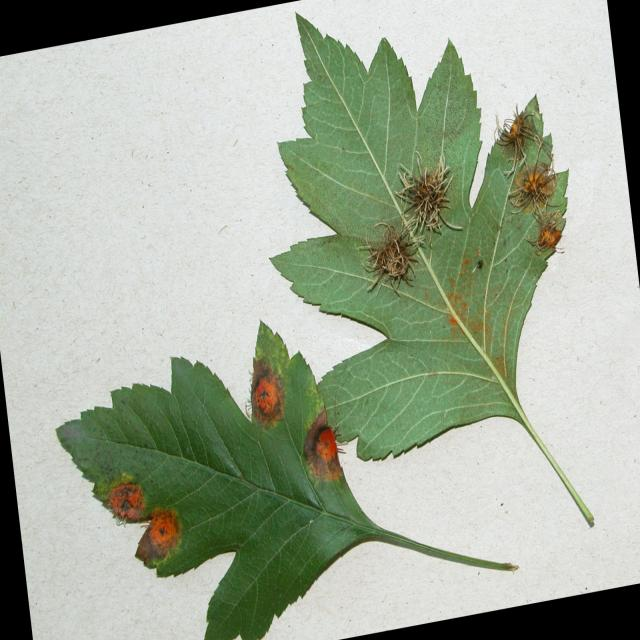Gymnosporangium_Rusts: (54, 13, 596, 636)
